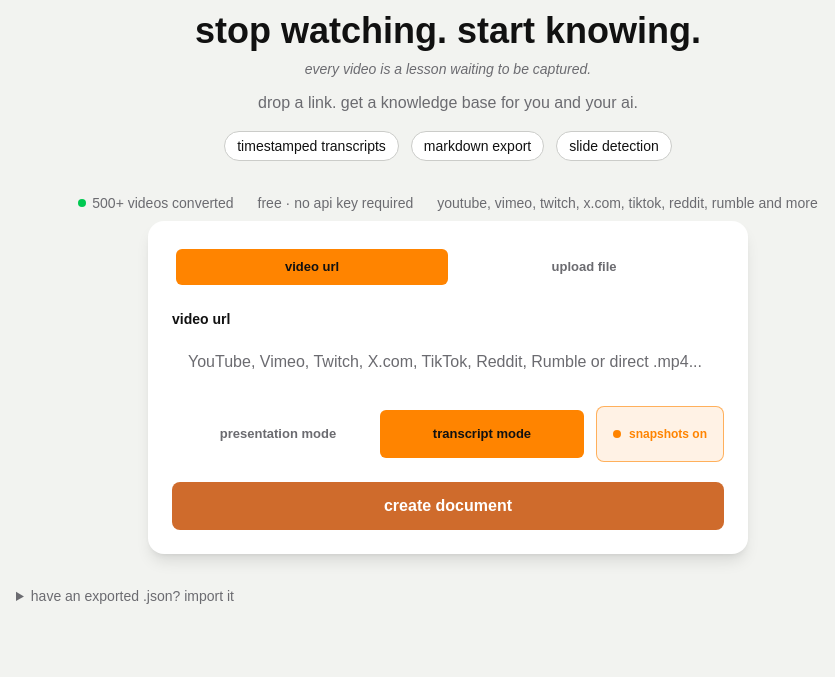
Test case: Home — caption language › shows a language dropdown once tracks are fetched for a YouTube URL
Type "https://youtu.be/abc" into the field labelled "video url" at (448, 362), box [172,338,724,386]
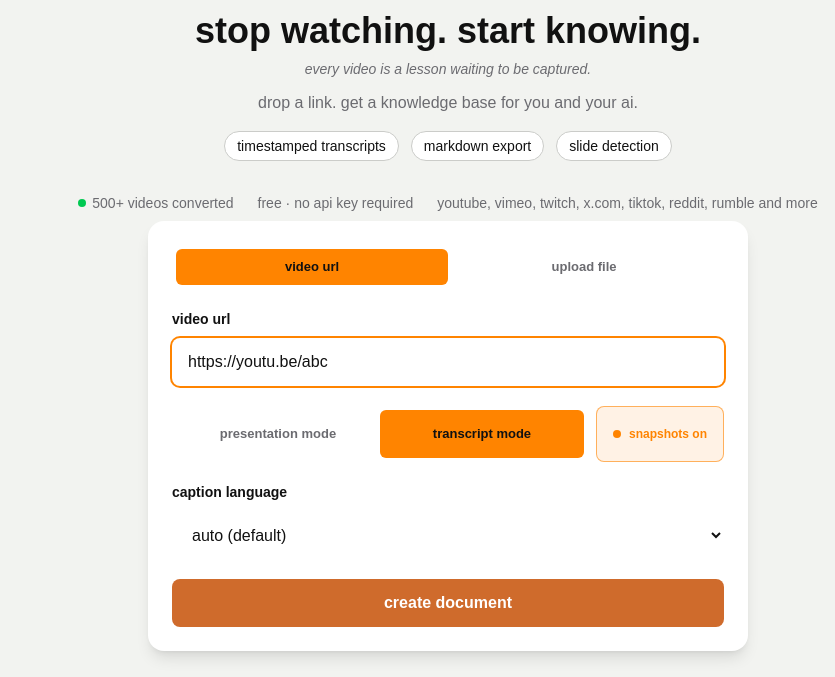
Result: the dropdown labelled "caption language" is shown at [172,511,724,559]
